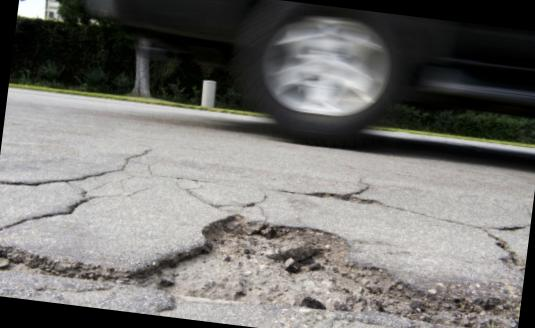pothole: (0, 168, 528, 328)
